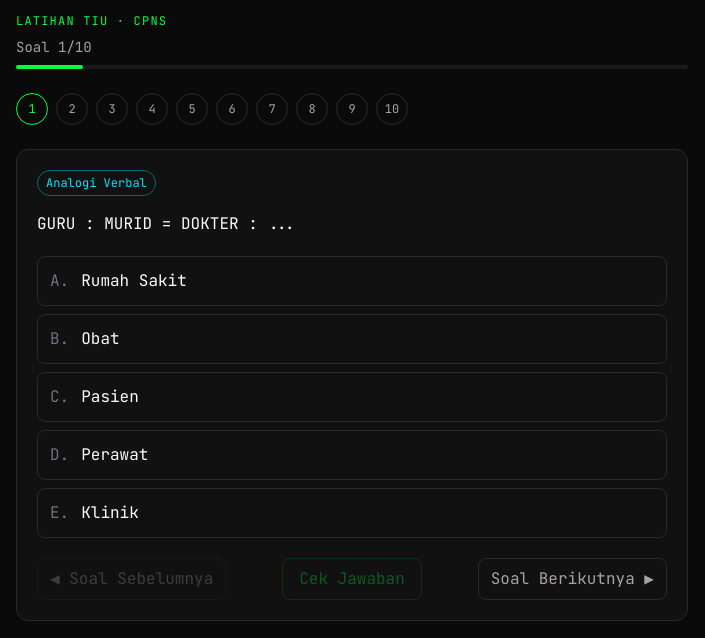
it: LatihanCpnsTiu › navigates with Prev/Next, disables at bounds, and preserves selection per question
This screenshot has width=705, height=638.
Expected: the button "◀ Soal Sebelumnya" is disabled, left=37, top=558, right=226, bottom=600
Click the text "Pasien" at x=110, y=397, box left=81, top=385, right=139, bottom=409
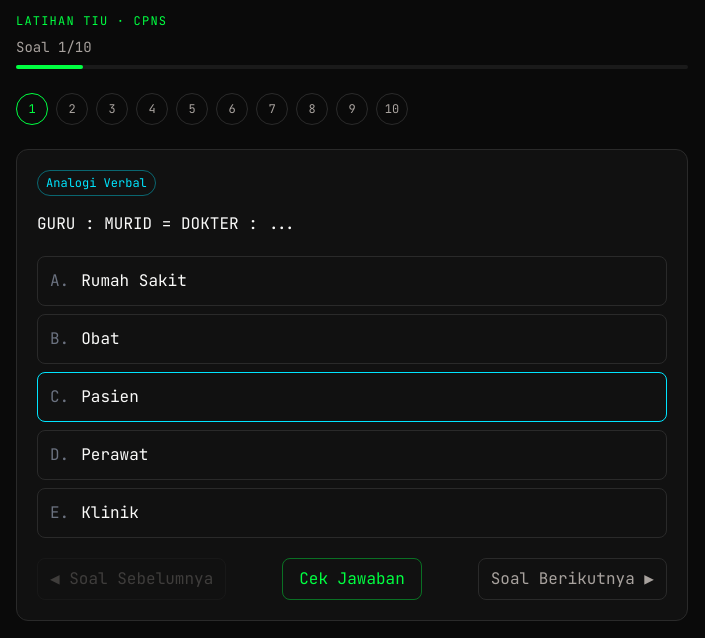
Click the button "Soal Berikutnya ▶" at x=572, y=579, box left=478, top=558, right=667, bottom=600
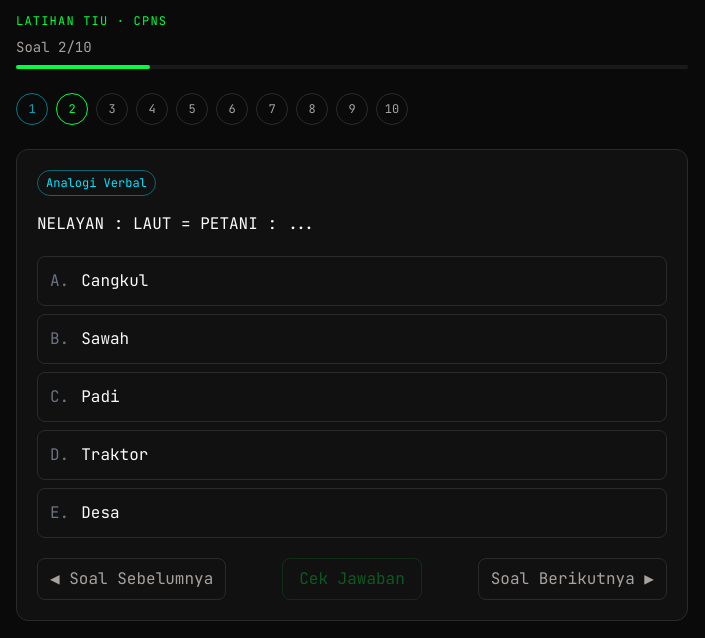
Now the text "Soal 2/10" is shown, box left=16, top=38, right=92, bottom=56
Click the button "◀ Soal Sebelumnya" at x=132, y=579, box left=37, top=558, right=226, bottom=600
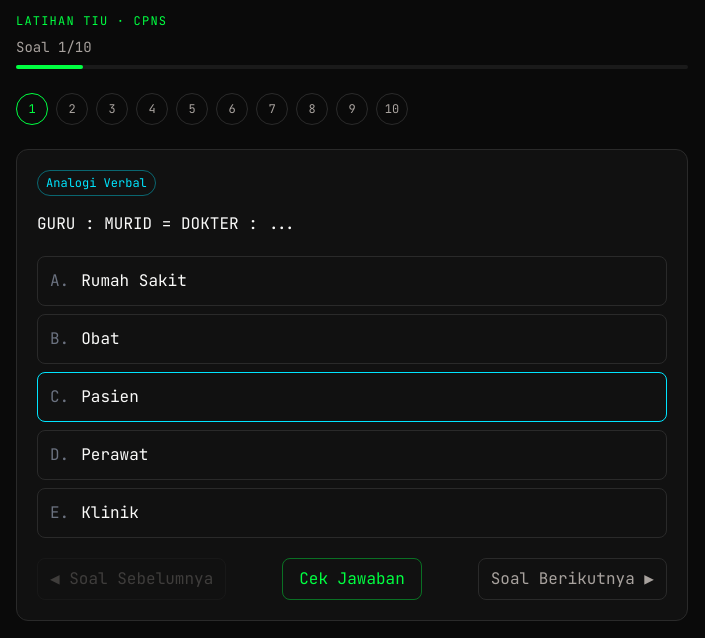
Now the text "Soal 1/10" is shown, box left=16, top=38, right=92, bottom=56
